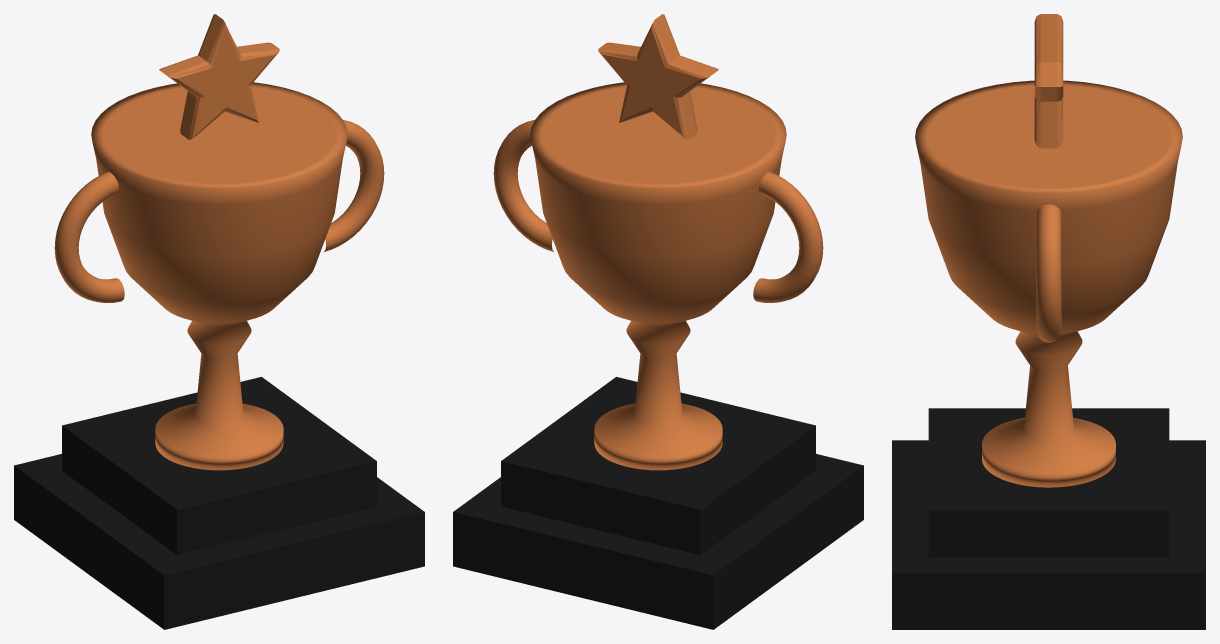
File: trophy-bronze.glb
3 views of the same model, side by side, from view 1: azimuth 30°, elevation 25°; view 2: azimuth 150°, elevation 25°; view 3: azimuth 270°, elevation 25° (orthographic). The views are drawn at different scales.
Size of the model in its own units: 0.188 by 0.2897 by 0.15.
